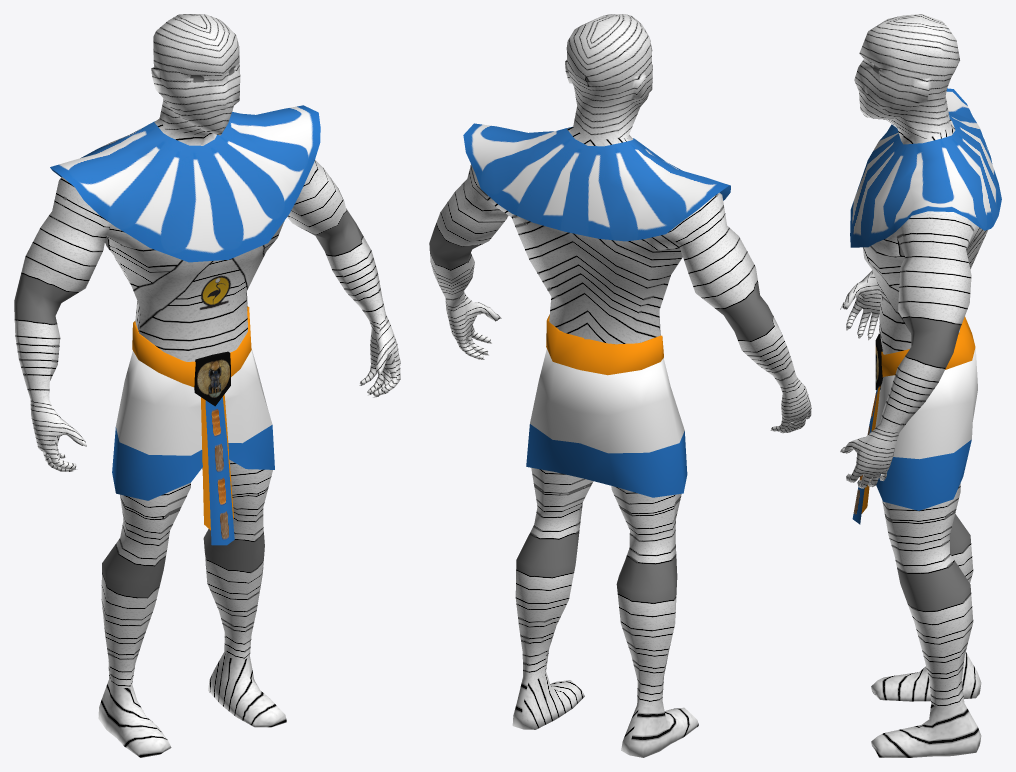
The model's file is TestOld.FBX.
3 renders of one model, left to right at view 1: azimuth 30°, elevation 25°; view 2: azimuth 150°, elevation 25°; view 3: azimuth 270°, elevation 25°, orthographic.
Parts seen in each view (by area): view 1: Object010; view 2: Object010; view 3: Object010.
Part boxes in pixels (left/top/right/bottom): Object010: left=14, top=14, right=400, bottom=757; Object010: left=429, top=14, right=811, bottom=757; Object010: left=840, top=14, right=1001, bottom=757.
Bounding box in the file's own units: 171 × 322 × 67.32.
2 materials, 2 textured.
